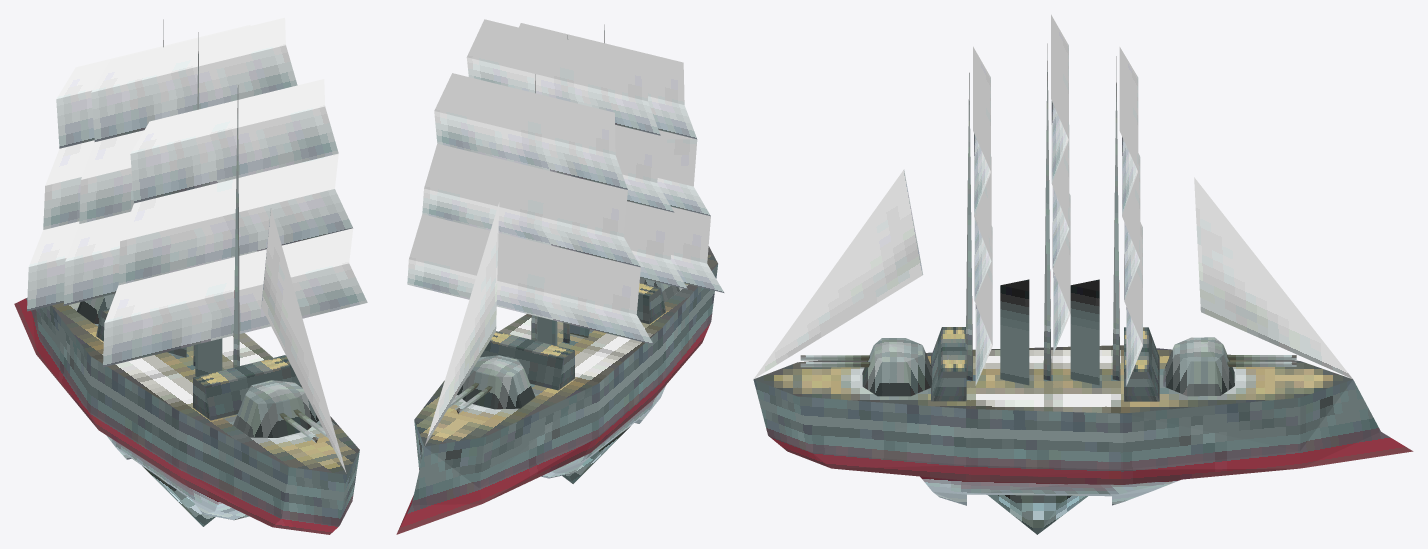
Rendered from ps2_save-icons_limeiro.glb.
The picture shows the model from 3 angles, left to right: view 1: azimuth 30°, elevation 25°; view 2: azimuth 150°, elevation 25°; view 3: azimuth 270°, elevation 25°; orthographic projection. The views are drawn at different scales.
Visible parts, largest first — view 1: lime.ico; view 2: lime.ico; view 3: lime.ico.
Part boxes in pixels (x1=…): lime.ico: x1=14, y1=17, x2=367, y2=534; lime.ico: x1=396, y1=19, x2=724, y2=534; lime.ico: x1=753, y1=14, x2=1413, y2=534.
Bounding box in the file's own units: 2.06 × 3.72 × 4.47.
Materials: 1 (1 with a texture image).
